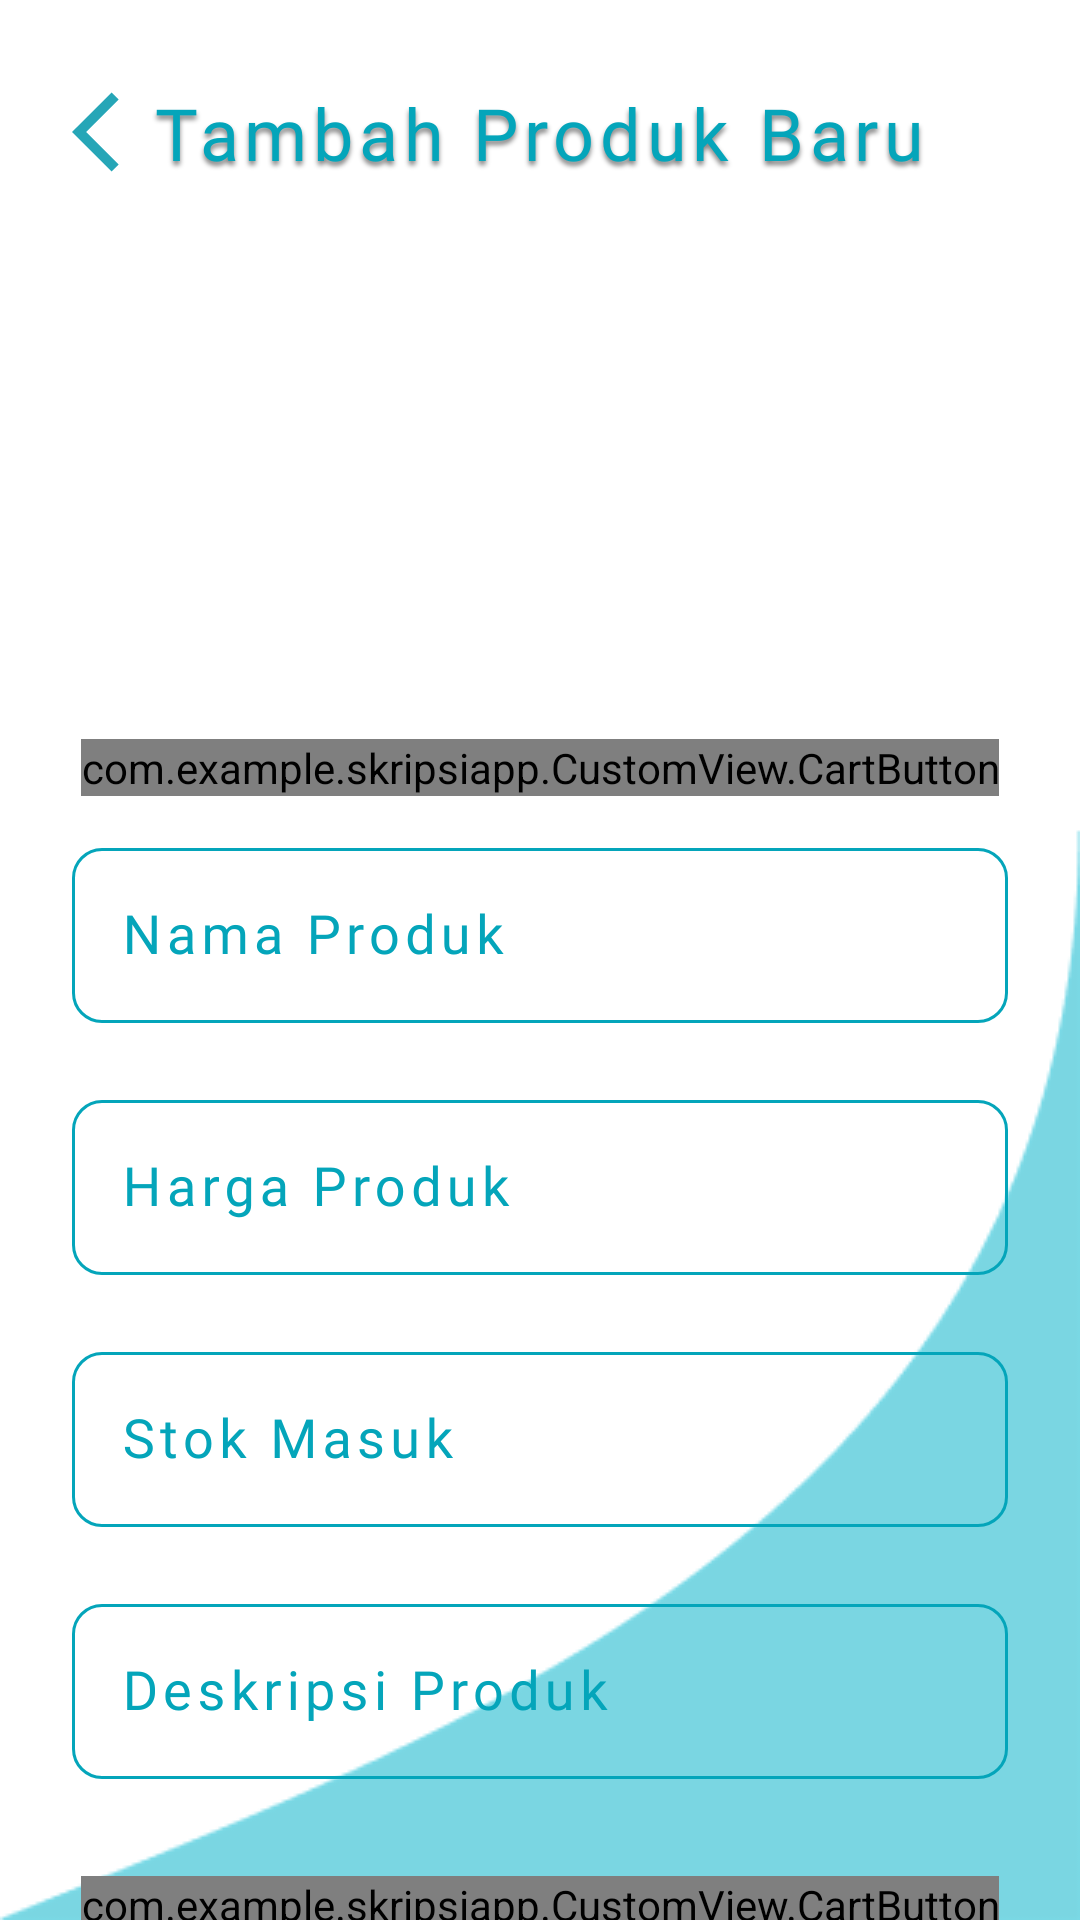

Screen size 1080 × 1920. Icon name, then its center in pixels as (x,y):
back: (95,132)
